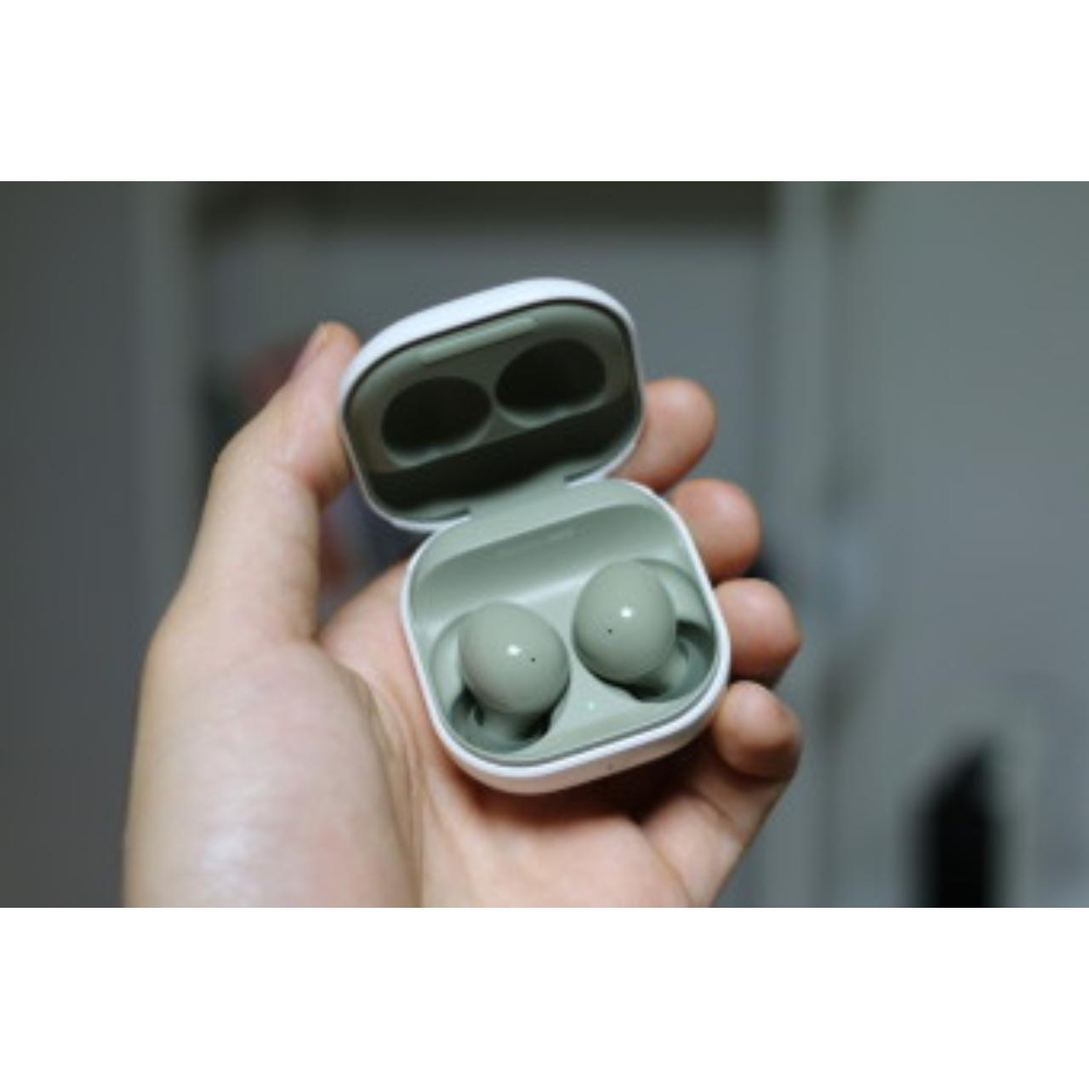Buds: (329, 272, 736, 815)
Buds_Units: (572, 556, 713, 712), (444, 602, 572, 756)
